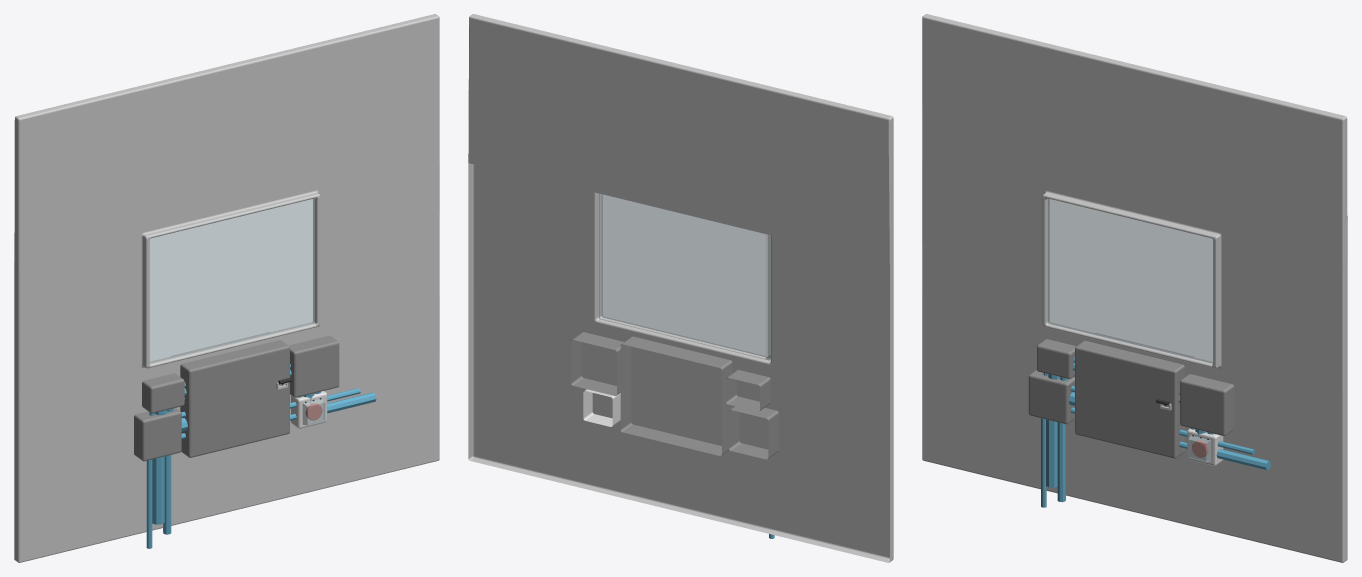
File: radar.fbx
The picture shows the model from 3 angles, left to right: view 1: azimuth 30°, elevation 25°; view 2: azimuth 150°, elevation 25°; view 3: azimuth 330°, elevation 25°; orthographic projection.
Parts seen in each view (by area): view 1: Wall, Window, DJ Console, Health Monitor, Audio Log player, Speaker, Cylinder.017, Honk Panel, Cylinder.018, Cylinder.019, Honk Cover; view 2: Wall, Window, DJ Console, Health Monitor, Audio Log player, Speaker, Honk Panel; view 3: Wall, Window, DJ Console, Health Monitor, Audio Log player, Speaker, Honk Panel, Cylinder.017, Cylinder.018, Cylinder.021, Honk Cover.
Part boxes in pixels (<box>): Wall: <box>14,14,439,562</box>; Window: <box>149,198,314,363</box>; DJ Console: <box>171,332,289,457</box>; Health Monitor: <box>288,335,339,397</box>; Audio Log player: <box>134,408,181,461</box>; Speaker: <box>142,373,184,413</box>; Cylinder.017: <box>152,456,164,524</box>; Honk Panel: <box>291,391,327,428</box>; Cylinder.018: <box>163,455,171,534</box>; Cylinder.019: <box>146,459,152,548</box>; Honk Cover: <box>302,398,325,425</box>; Wall: <box>468,14,893,562</box>; Window: <box>599,194,770,360</box>; DJ Console: <box>620,336,732,455</box>; Health Monitor: <box>571,332,623,395</box>; Audio Log player: <box>729,406,778,459</box>; Speaker: <box>726,370,770,411</box>; Honk Panel: <box>583,389,620,426</box>; Wall: <box>922,14,1347,562</box>; Window: <box>1048,198,1213,363</box>; DJ Console: <box>1075,333,1192,458</box>; Health Monitor: <box>1180,374,1234,435</box>; Audio Log player: <box>1028,369,1074,424</box>; Speaker: <box>1037,339,1076,378</box>; Honk Panel: <box>1187,428,1223,465</box>; Cylinder.017: <box>1046,419,1057,487</box>; Cylinder.018: <box>1057,422,1065,502</box>; Cylinder.021: <box>1216,449,1270,469</box>; Honk Cover: <box>1188,435,1210,462</box>.
Bounding box in the file's own units: 2162 × 2235 × 218.
